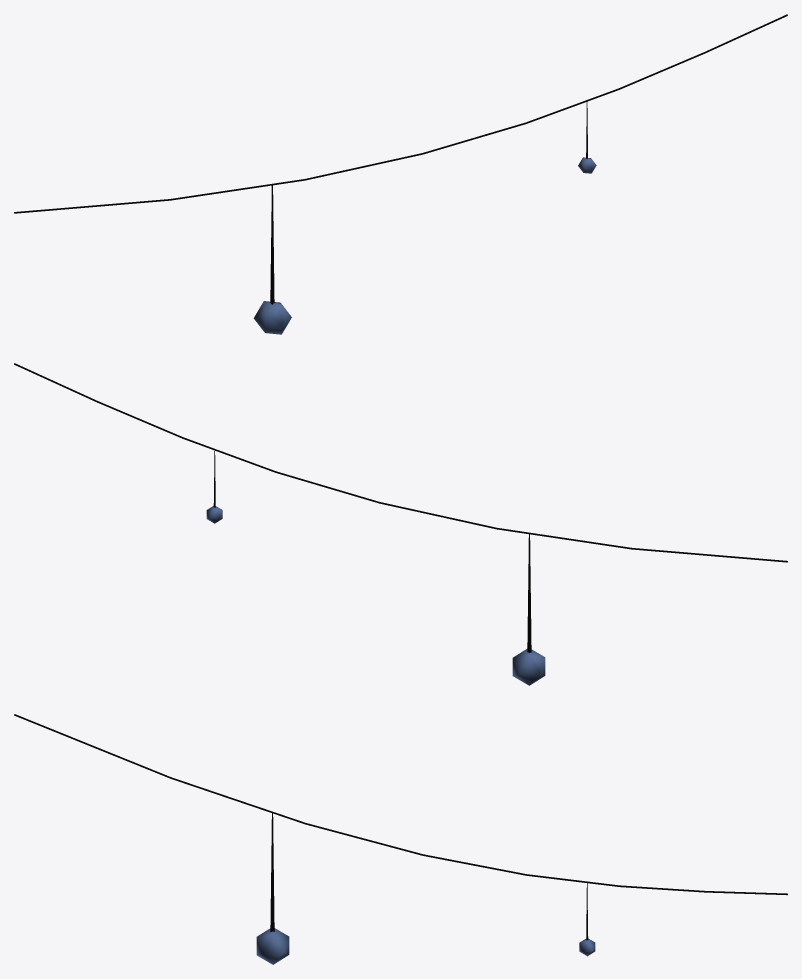
The model's file is Garland_B_5_SpherifyLamps_Blue.fbx.
3 views of the same model, one above another, from view 1: azimuth 30°, elevation 25°; view 2: azimuth 150°, elevation 25°; view 3: azimuth 330°, elevation 25° (orthographic).
Parts seen in each view (by area): view 1: Garland_B_5_SpherifyLamps_Blue; view 2: Garland_B_5_SpherifyLamps_Blue; view 3: Garland_B_5_SpherifyLamps_Blue.
Part boxes in pixels (x1,y1,x2,y2): Garland_B_5_SpherifyLamps_Blue: (14,14,787,334); Garland_B_5_SpherifyLamps_Blue: (14,363,787,685); Garland_B_5_SpherifyLamps_Blue: (14,714,787,964).
Size of the model in its own units: 676 by 161 by 29.13.
